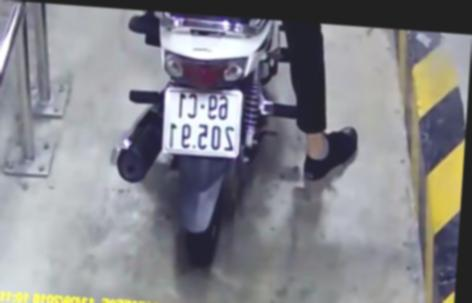License_Plate: (151, 78, 250, 165)
